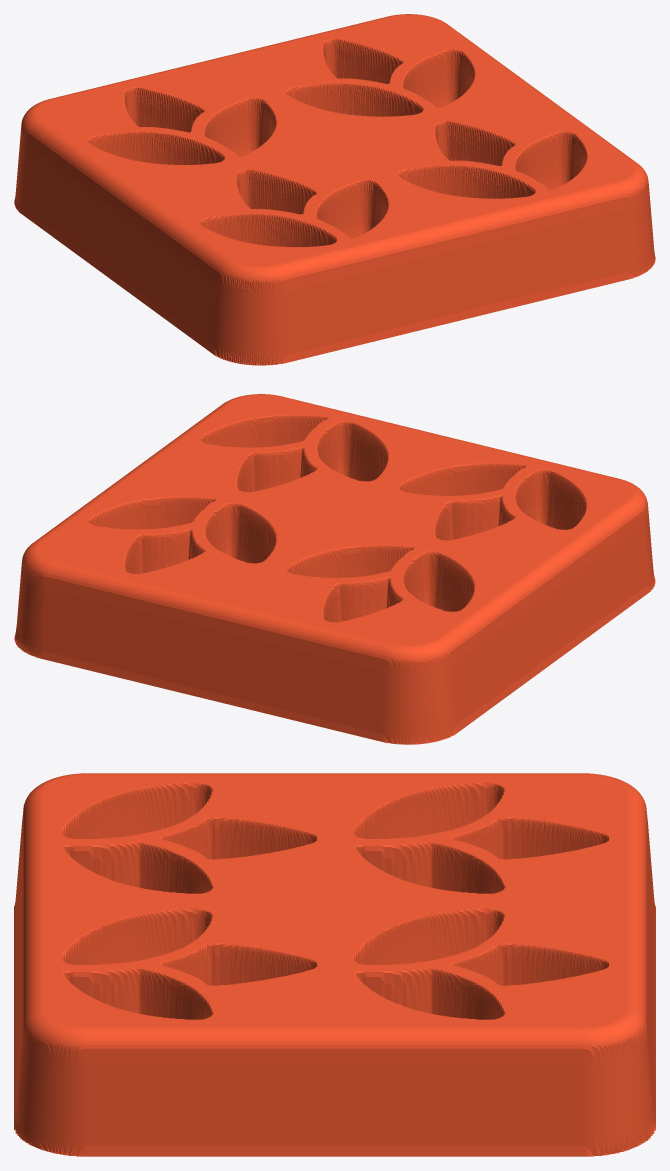
The model's file is mold.glb.
The picture shows the model from 3 angles, top to bottom: view 1: azimuth 30°, elevation 25°; view 2: azimuth 150°, elevation 25°; view 3: azimuth 270°, elevation 25°; orthographic projection. The views are drawn at different scales.
Parts seen in each view (by area): view 1: geometry_0; view 2: geometry_0; view 3: geometry_0.
Boxes of the visible parts, x1,y1,x2,y2 form: geometry_0: (14,14,655,365); geometry_0: (14,394,655,744); geometry_0: (14,773,655,1156).
Size of the model in its own units: 0.0808 by 0.0159 by 0.0792.
